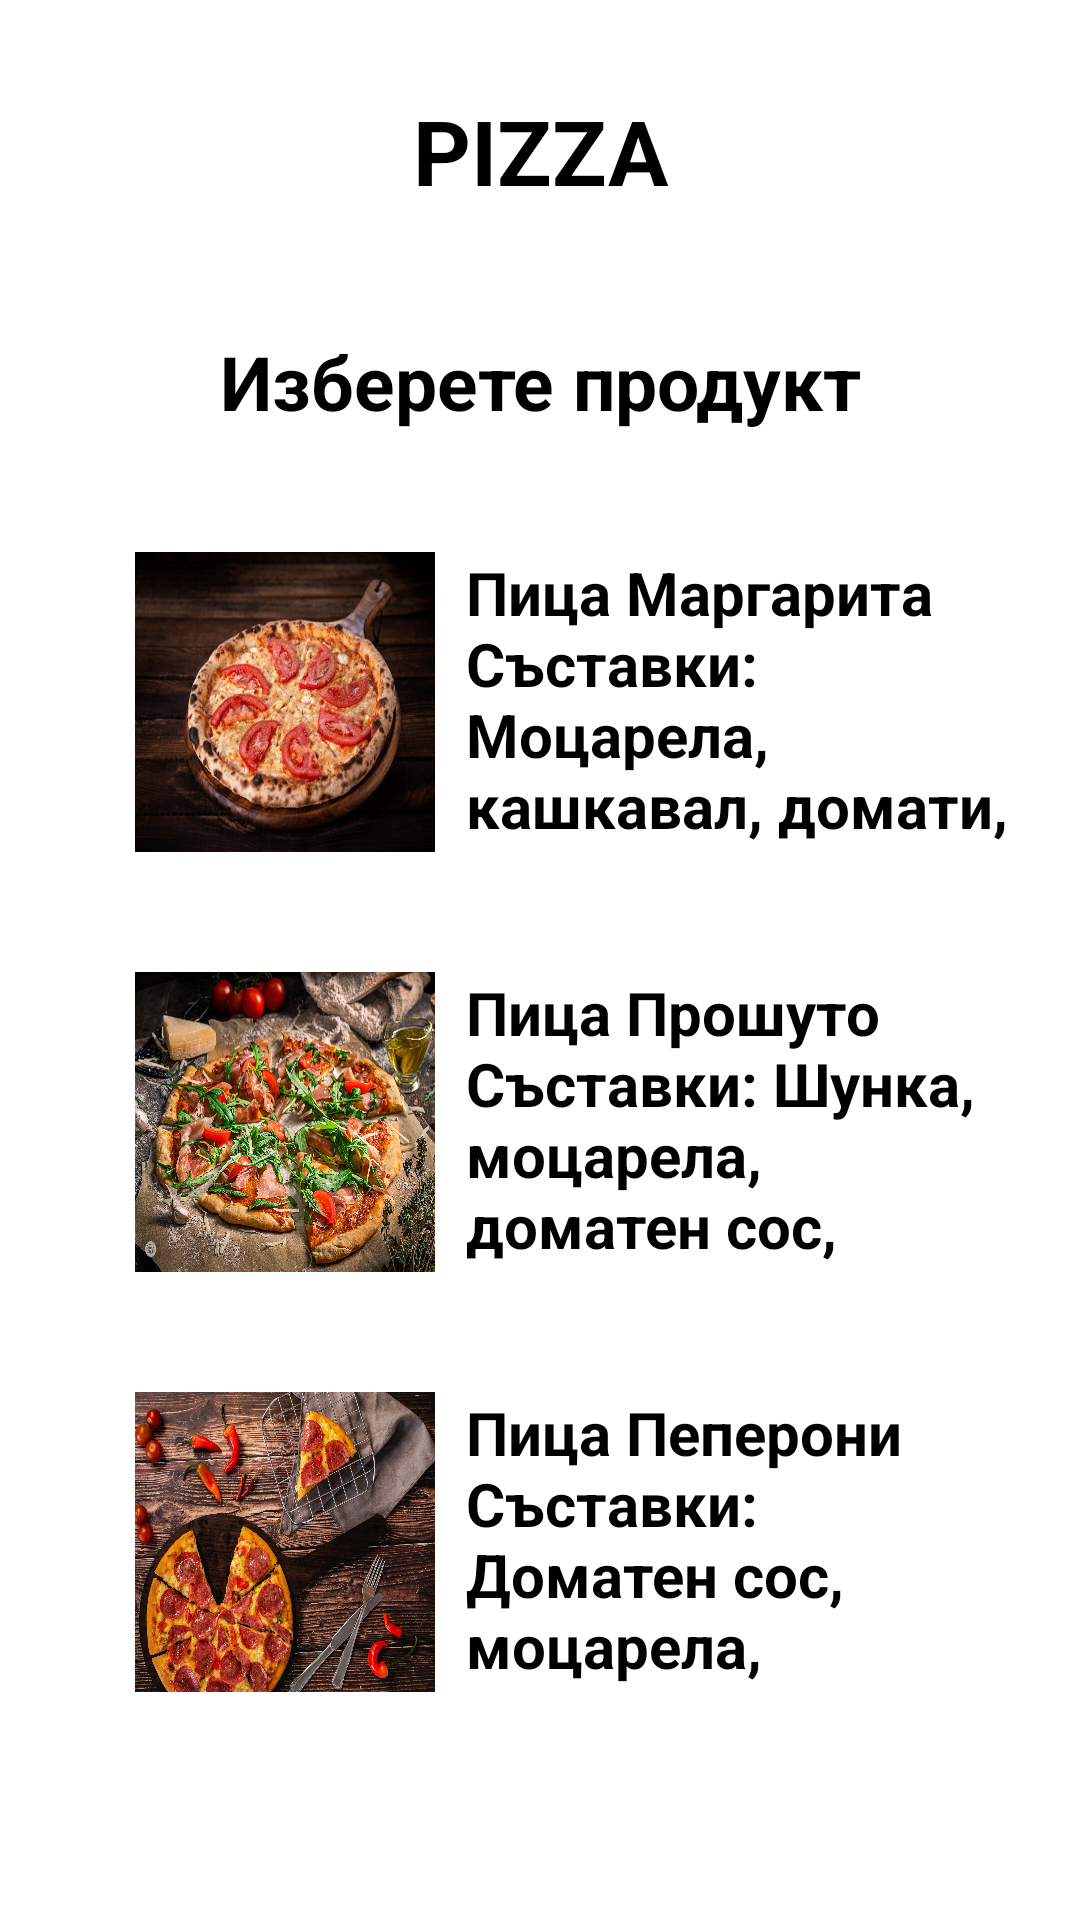

Point at icon controls on the screen. Image size 1080 × 1920, points as (x,y).
piz: (285,702), (285,1542)
proshuto: (285,1122)
